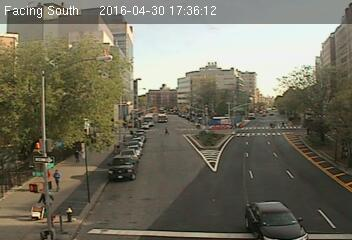neg: (176, 90, 182, 97), (170, 107, 175, 115), (178, 98, 183, 105)
pos: (46, 166, 65, 190), (70, 146, 82, 163), (161, 124, 170, 136), (280, 118, 289, 130)
